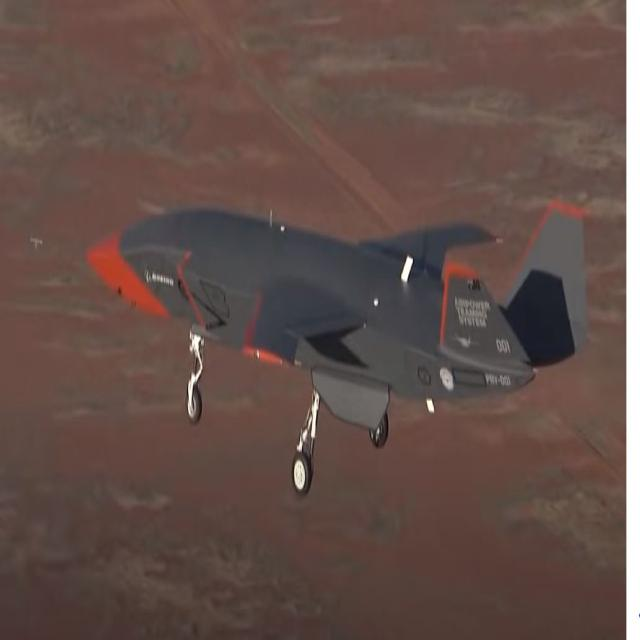iha: (83, 190, 587, 506)
